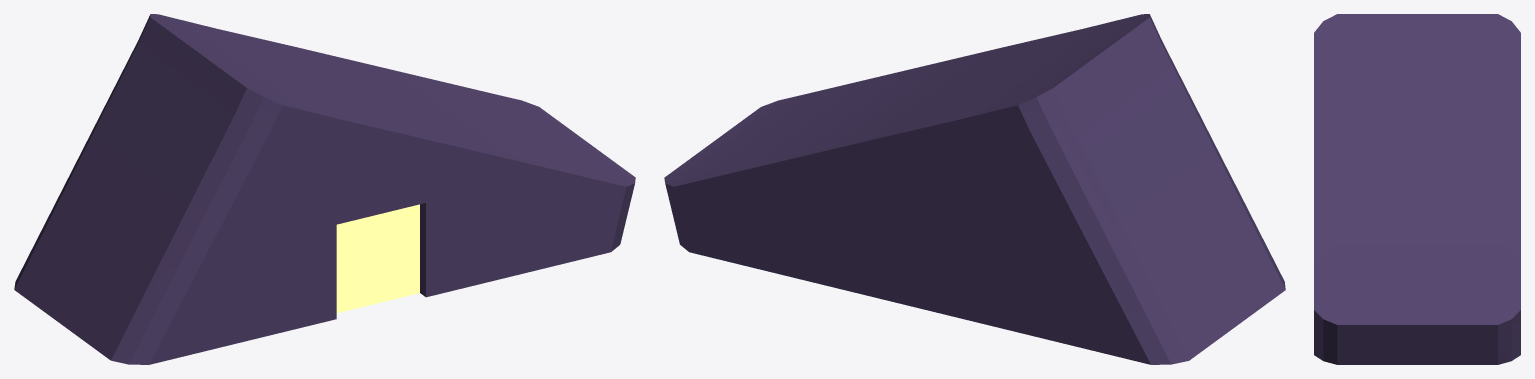
The model's file is TOP.fbx.
3 views of the same model, side by side, from view 1: azimuth 30°, elevation 25°; view 2: azimuth 150°, elevation 25°; view 3: azimuth 270°, elevation 25° (orthographic). The views are drawn at different scales.
Parts seen in each view (by area): view 1: Cube.002; view 2: Cube.002; view 3: Cube.002.
Part boxes in pixels (x1=…): Cube.002: x1=14, y1=14, x2=635, y2=364; Cube.002: x1=664, y1=14, x2=1285, y2=364; Cube.002: x1=1314, y1=14, x2=1520, y2=364.
Size of the model in its own units: 479 by 209 by 196.
